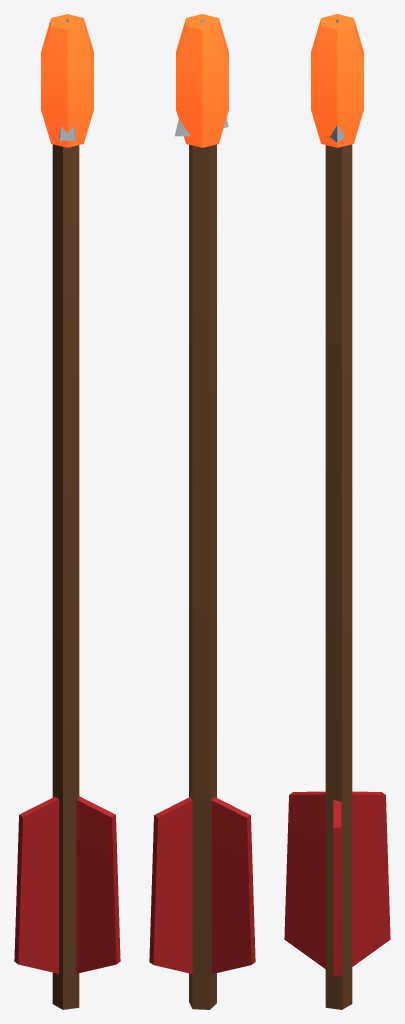
File: Weapon_EnemyArrow.fbx
3 views of the same model, side by side, from view 1: azimuth 90°, elevation 25°; view 2: azimuth 210°, elevation 25°; view 3: azimuth 270°, elevation 25° (orthographic).
Parts seen in each view (by area): view 1: EnemyArrow; view 2: EnemyArrow; view 3: EnemyArrow.
Boxes of the visible parts, x1,y1,x2,y2 form: EnemyArrow: (14, 14, 120, 1009); EnemyArrow: (149, 14, 255, 1009); EnemyArrow: (284, 14, 390, 1009).
Bounding box in the file's own units: 0.0343 × 0.405 × 0.0396.
